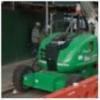tractors: (13, 19, 100, 96)
